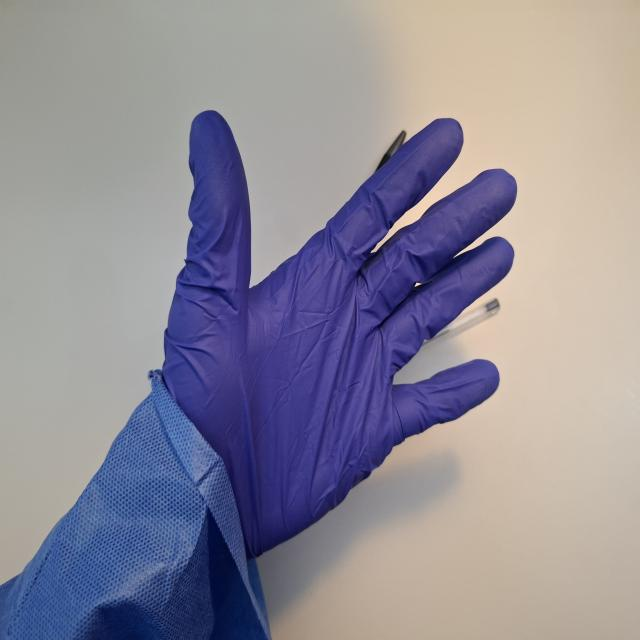glove_on: (150, 107, 518, 567)
